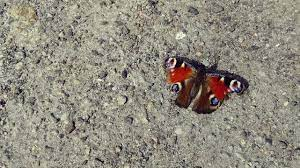Butterfly: (164, 53, 249, 115)
